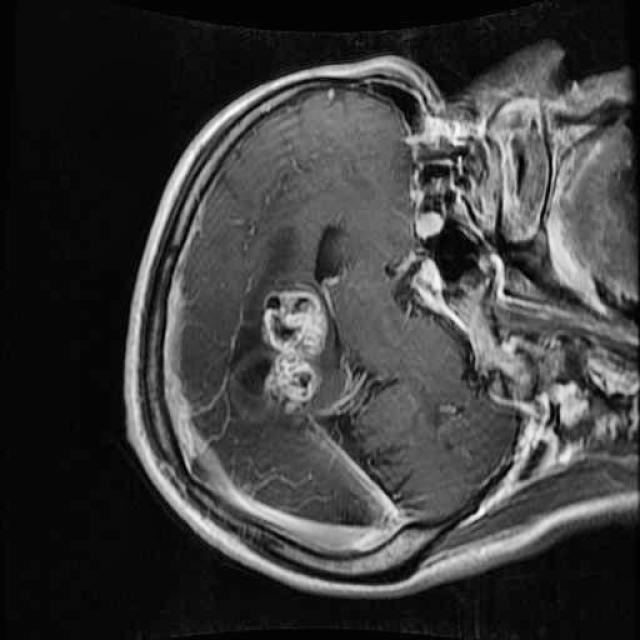Tumor: (254, 282, 332, 422)
